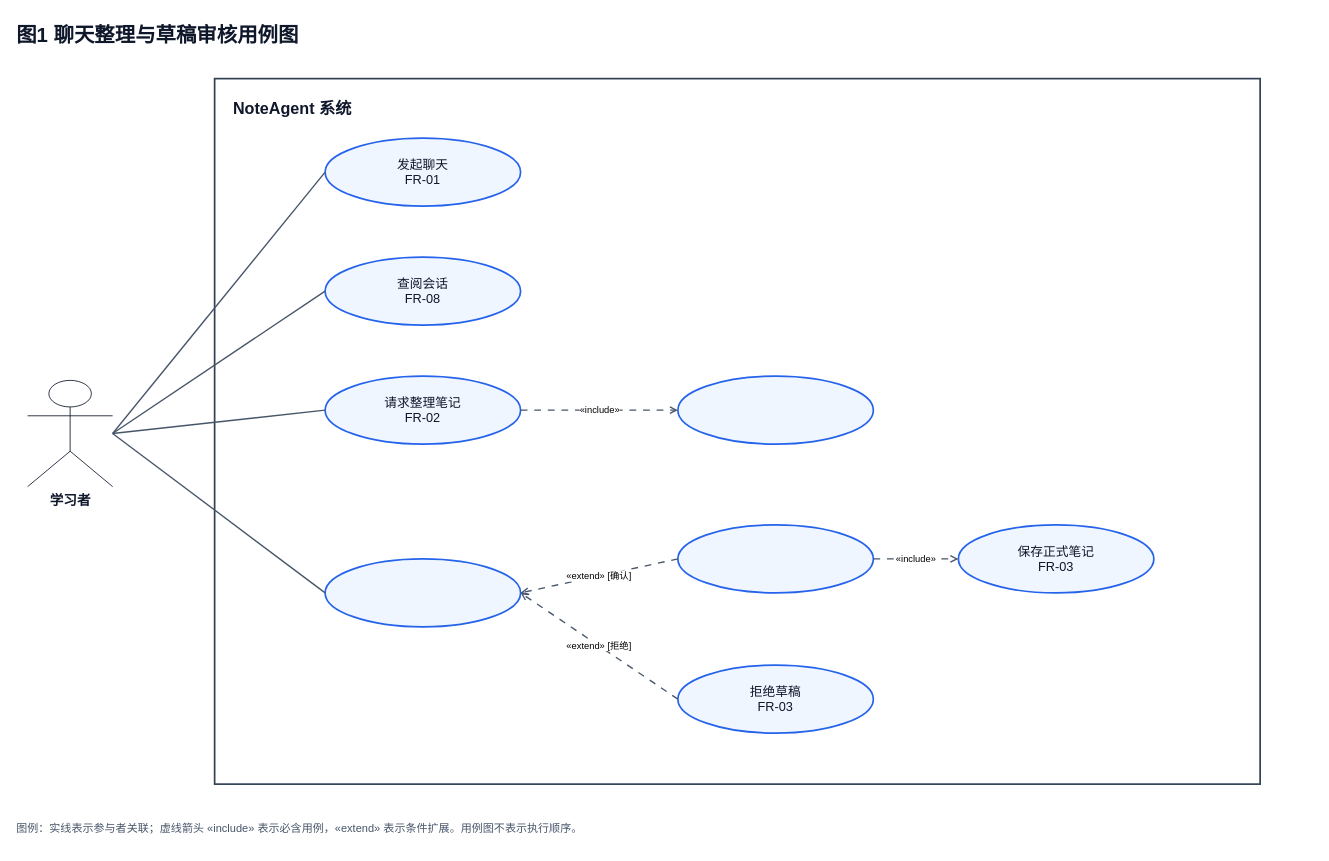
This 1329x861 diagram has some shape labels left out. Here are the shapes that lost their labels. From the top down, the centre of each, then its label:
(775,410): 生成待审草稿 FR-02
(775,558): 确认草稿 FR-03
(422,592): 审核待审草稿 FR-03
